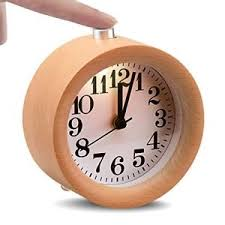alarm_clock: (21, 24, 204, 207), (24, 24, 204, 207)
